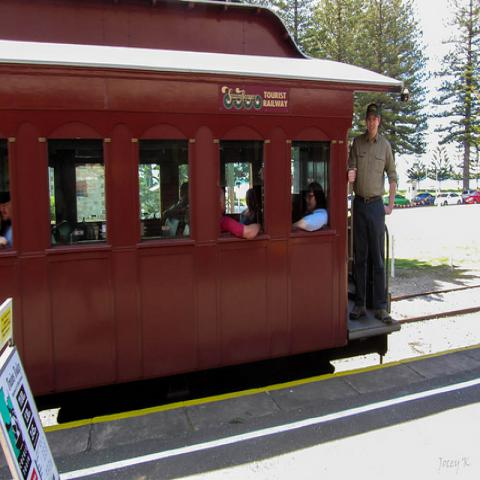car: (383, 194, 410, 206), (436, 193, 464, 204), (415, 193, 436, 206), (464, 192, 480, 205), (461, 189, 477, 199)
